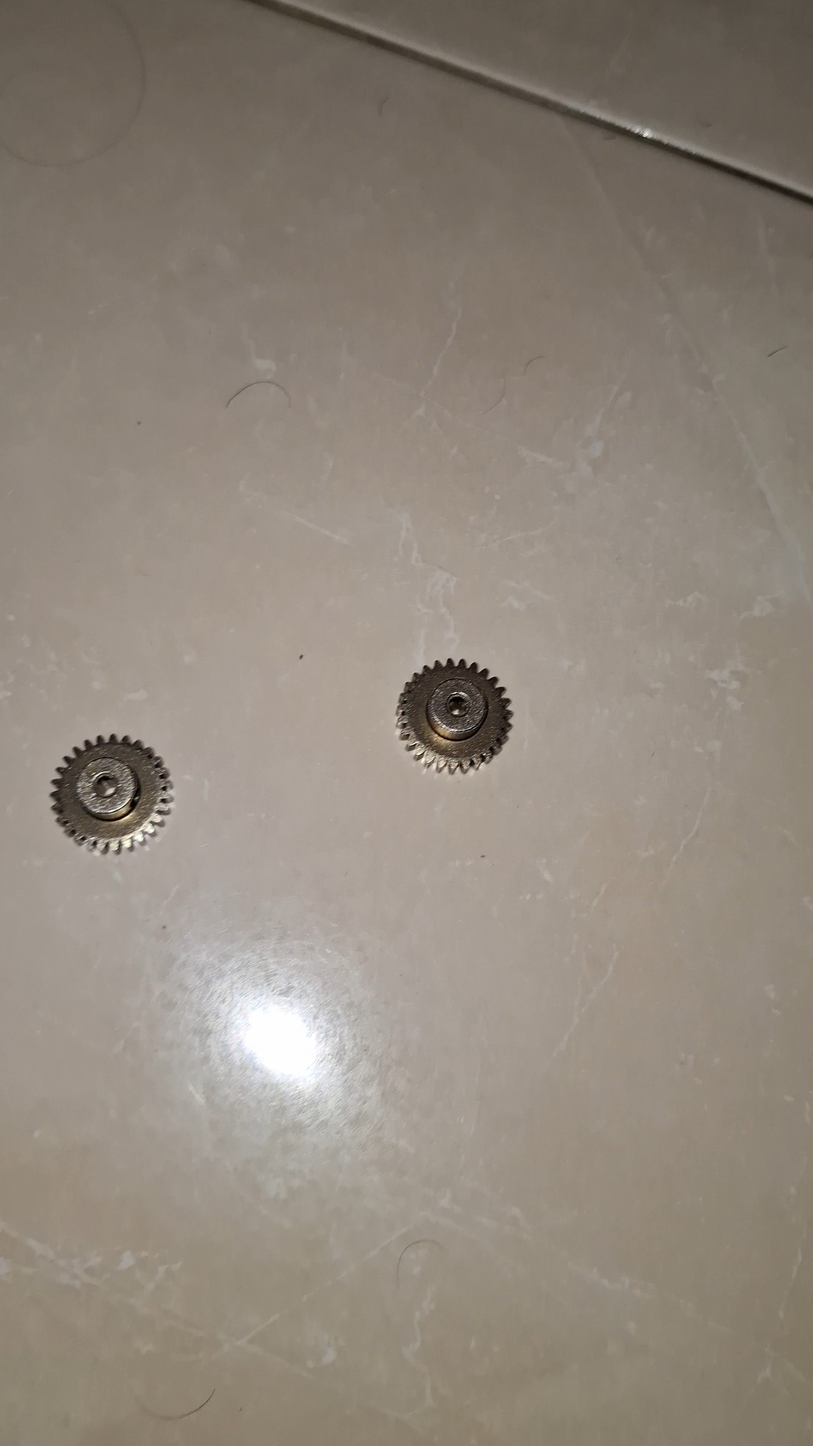spur gear: (53, 733, 174, 851), (398, 659, 512, 771)
